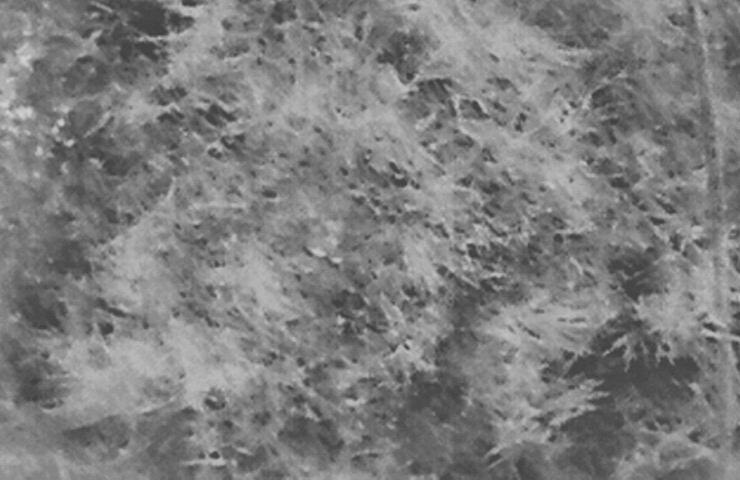landmines: (297, 218, 363, 268)
